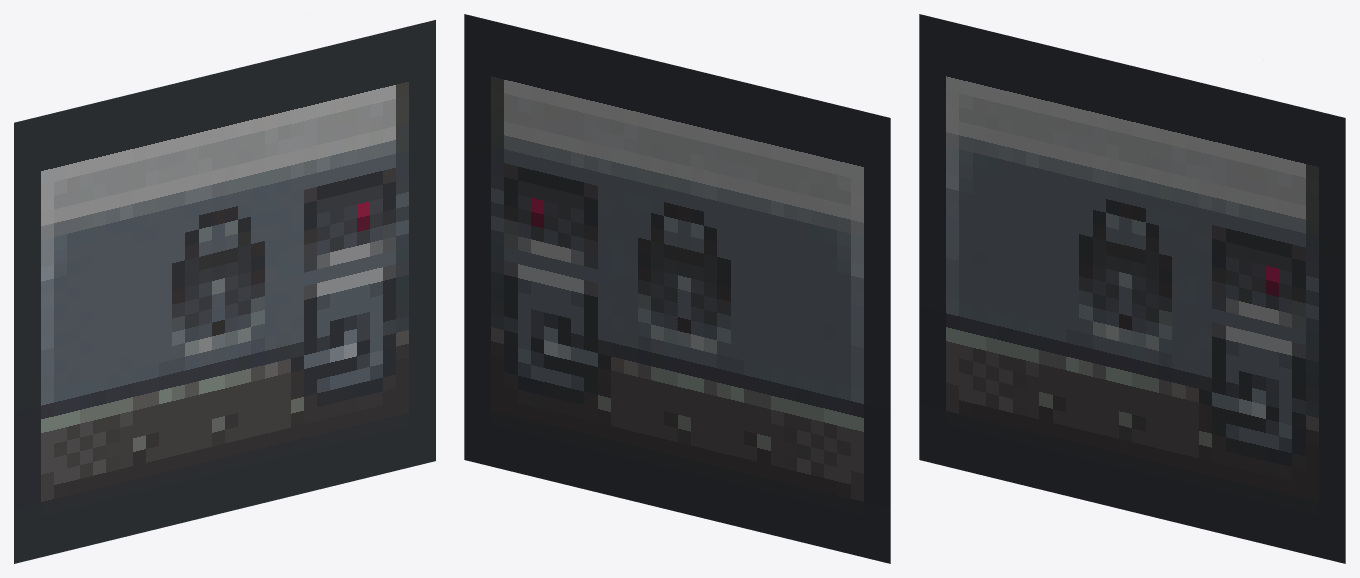
The model's file is Door_H_Solitary.glb.
3 renders of one model, left to right at view 1: azimuth 30°, elevation 25°; view 2: azimuth 150°, elevation 25°; view 3: azimuth 330°, elevation 25°, orthographic.
Visible parts, largest first — view 1: pPlane6; view 2: pPlane6; view 3: pPlane6.
Part boxes in pixels (bbox=[...]): pPlane6: bbox=[14, 20, 435, 563]; pPlane6: bbox=[464, 14, 890, 563]; pPlane6: bbox=[919, 14, 1345, 563].
Size of the model in its own units: 1 by 1.03 by 0.1.
Materials: 2 (2 with a texture image).
